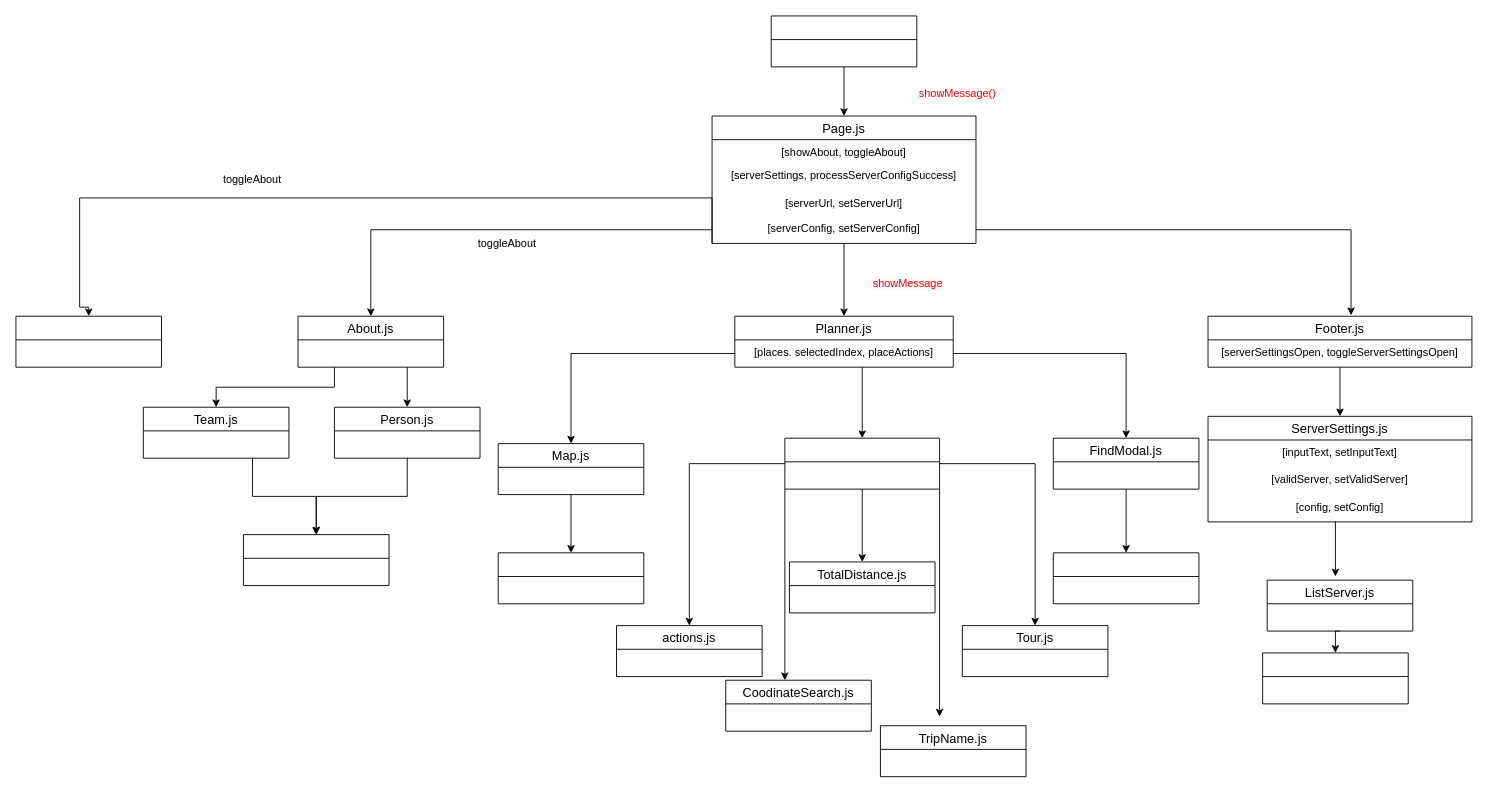
The diagram is 1488 pixels wide and 793 high, and some of its shapes have lost their labels. Here are the shapes that lost their labels. From the top down, the centre of each, then its label:
At (843,41): "App.js".
At (88,341): "Header.js".
At (862,463): "Itinerary.js".
At (316,560): "AboutCard.js".
At (570,578): "Marker.js".
At (1125,578): "List.js".
At (1335,678): "ServerInfo.js".
